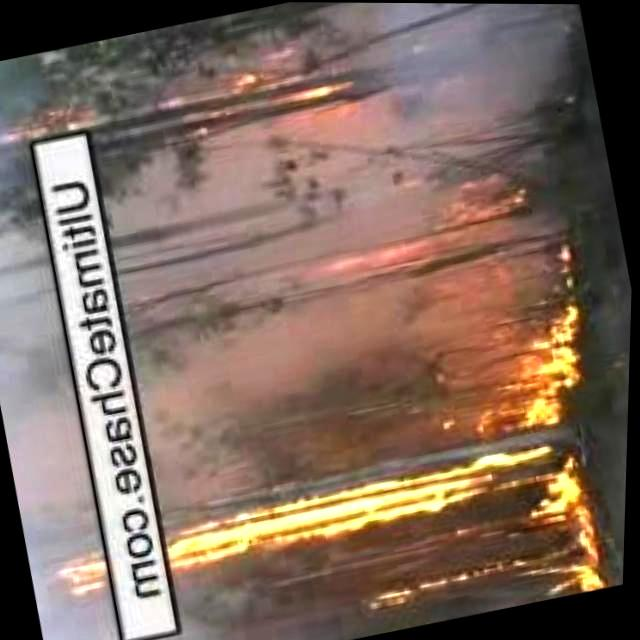fire: (60, 446, 588, 606), (460, 292, 596, 430), (527, 531, 611, 601)
